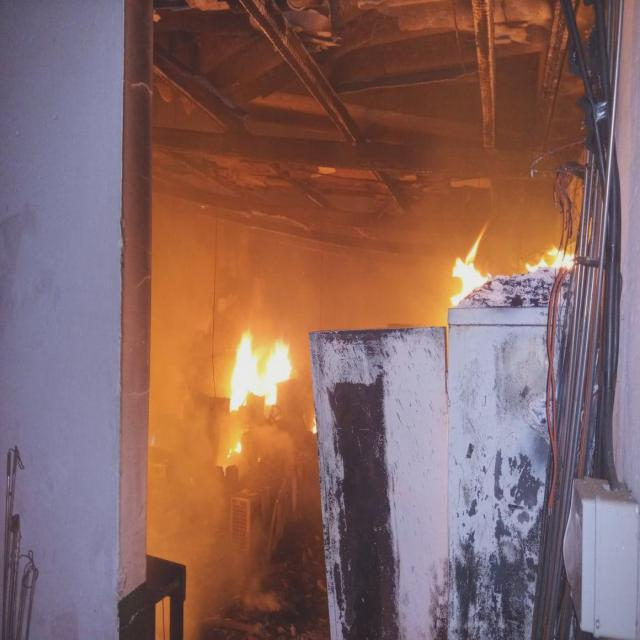Fire: (230, 326, 294, 409), (448, 220, 498, 308), (526, 245, 576, 273), (228, 440, 242, 458), (310, 414, 316, 436)
